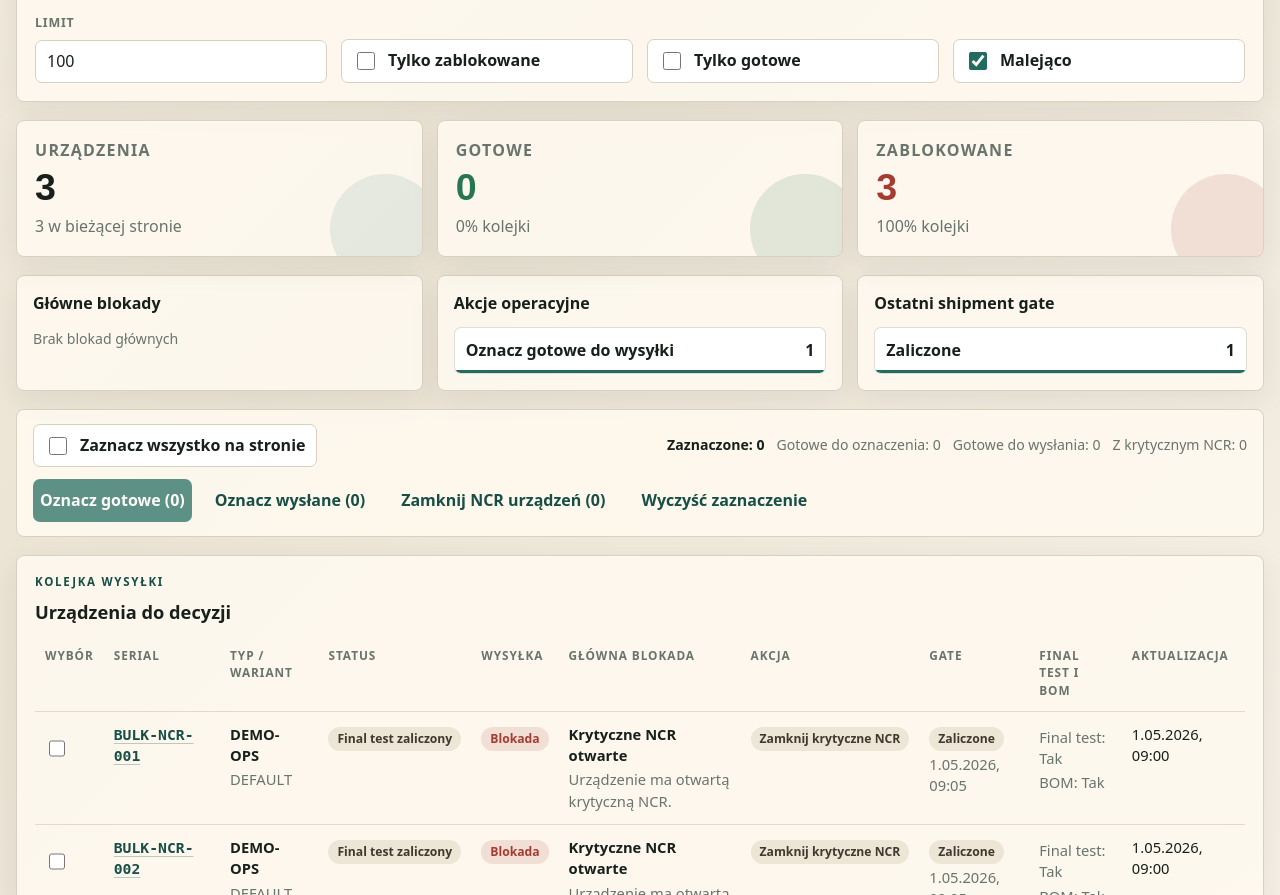
Test: App › closes selected shipment device critical NCRs from bulk actions
The width and height of the screenshot is (1280, 895).
(page scrolled)
Expected: the button "BULK-NCR-001" is shown, left=114, top=724, right=210, bottom=766
Click the checkbox named "Zaznacz wszystkie urządzenia w kolejce wysyłki na stronie".
click(58, 446)  # box left=49, top=437, right=67, bottom=455
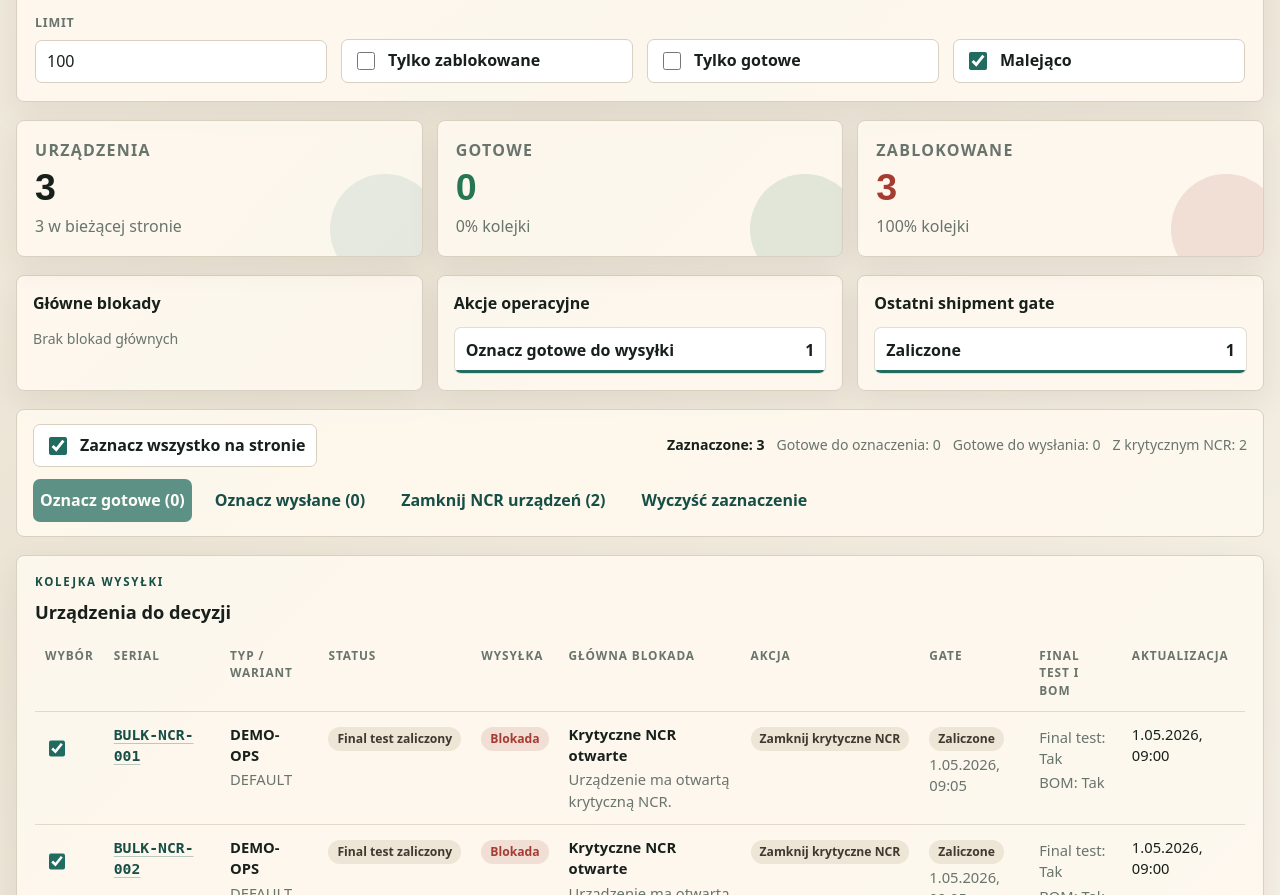
Now the text "Zaznaczone: 3" is shown, box left=667, top=435, right=764, bottom=456
Now the text "Z krytycznym NCR: 2" is shown, box left=1113, top=435, right=1247, bottom=456
Click the button "Zamknij NCR urządzeń (2)".
click(503, 501)  # box left=388, top=480, right=618, bottom=521
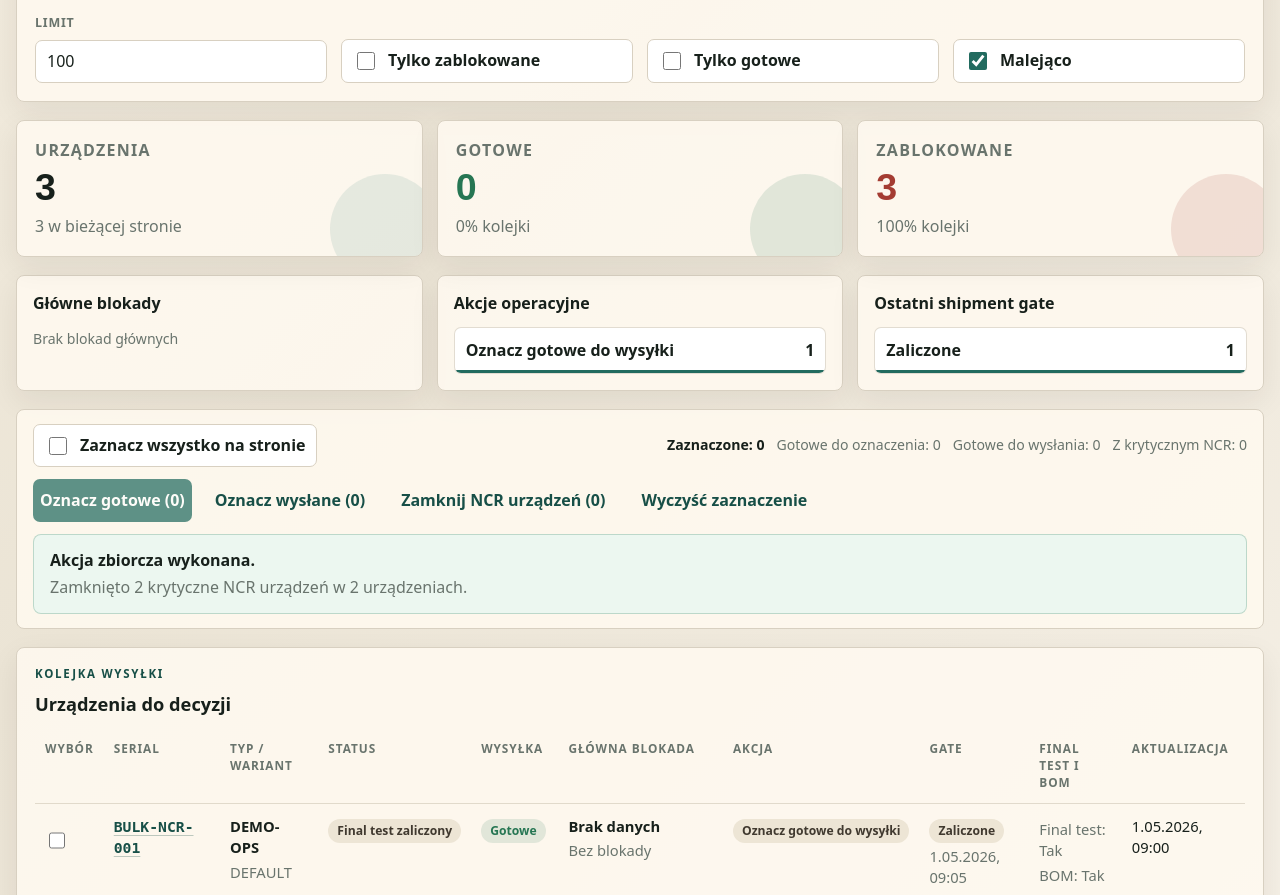
Now the text "Zamknięto 2 krytyczne NCR urządzeń w 2 urządzeniach." is shown, box left=50, top=576, right=467, bottom=598
Now the checkbox named "Zaznacz BULK-NCR-001" is not checked, box left=49, top=819, right=65, bottom=862
